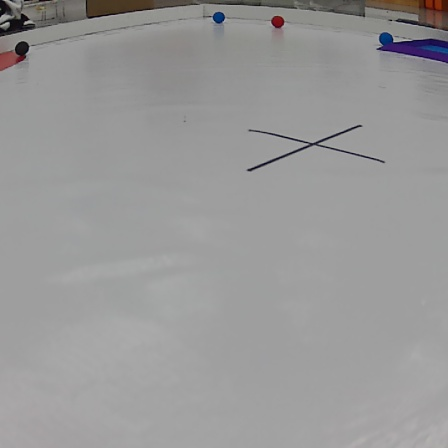black: (16, 39, 32, 56)
blue: (377, 30, 393, 46), (212, 12, 225, 24)
blue_aim: (380, 21, 448, 71)
red: (271, 13, 287, 28)
red_base: (0, 49, 25, 72)
